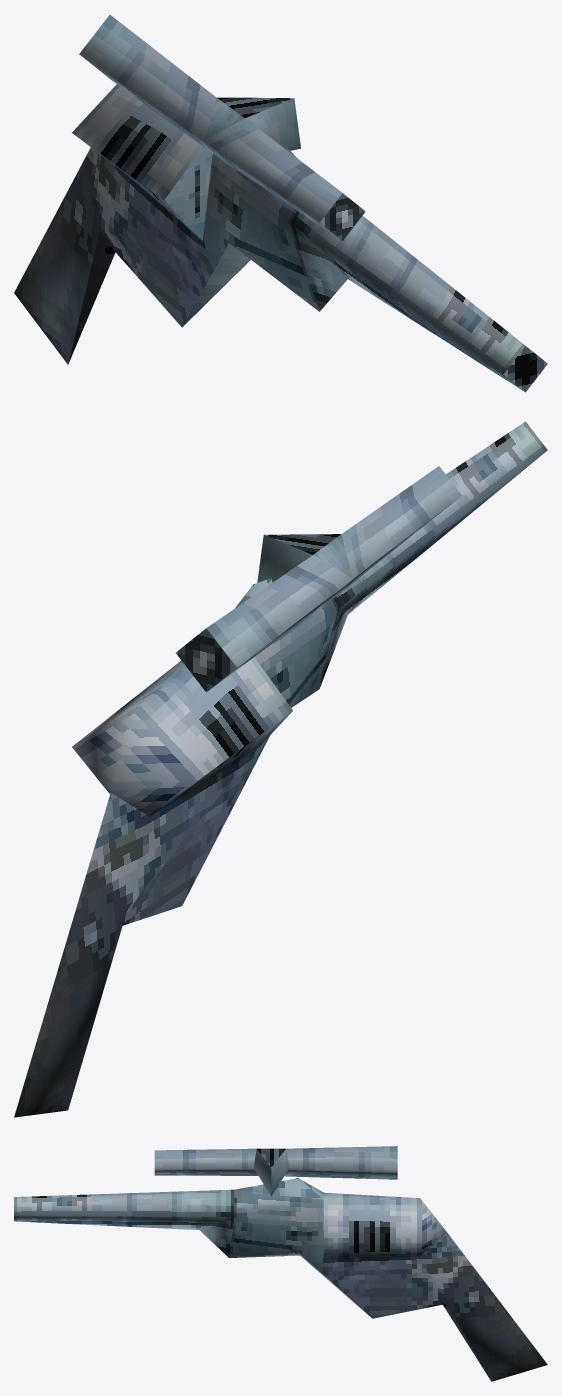
Rendered from wp_pistol_de10_combined_l2.fbx.
3 views of the same model, one above another, from view 1: azimuth 30°, elevation 25°; view 2: azimuth 150°, elevation 25°; view 3: azimuth 270°, elevation 25° (orthographic). The views are drawn at different scales.
Parts seen in each view (by area): view 1: mesh_node; view 2: mesh_node; view 3: mesh_node.
Part boxes in pixels (box(x1,y1,x2,y2)): mesh_node: box(14, 15, 547, 392); mesh_node: box(14, 421, 547, 1117); mesh_node: box(14, 1146, 547, 1381).
Bounding box in the file's own units: 0.0695 × 0.1981 × 0.429.
Materials: 1 (1 with a texture image).
